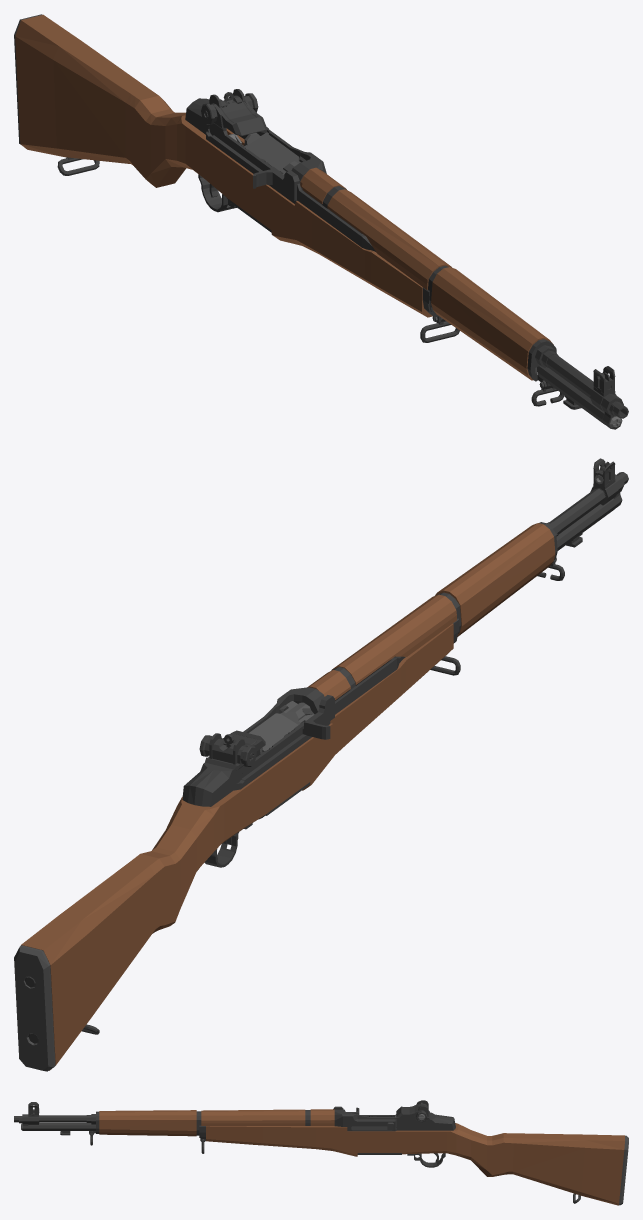
The model's file is garand.glb.
The picture shows the model from 3 angles, top to bottom: view 1: azimuth 30°, elevation 25°; view 2: azimuth 150°, elevation 25°; view 3: azimuth 270°, elevation 25°; orthographic projection. The views are drawn at different scales.
Visible parts, largest first — view 1: M1 Garand 1, M1 Garand 1 Operating Rod 1, M1 Garand 1 Bolt 1; view 2: M1 Garand 1, M1 Garand 1 Operating Rod 1, M1 Garand 1 Bolt 1; view 3: M1 Garand 1, M1 Garand 1 Clip Latch 1.
Part boxes in pixels (box(x1,y1,x2,y2)): M1 Garand 1: box(14, 14, 628, 429); M1 Garand 1 Operating Rod 1: box(253, 168, 538, 370); M1 Garand 1 Bolt 1: box(244, 132, 300, 175); M1 Garand 1: box(14, 458, 628, 1071); M1 Garand 1 Operating Rod 1: box(302, 656, 405, 739); M1 Garand 1 Bolt 1: box(249, 701, 314, 757); M1 Garand 1: box(14, 1100, 628, 1205); M1 Garand 1 Clip Latch 1: box(351, 1122, 393, 1131).
Bounding box in the file's own units: 0.0799 × 0.2335 × 1.3.
